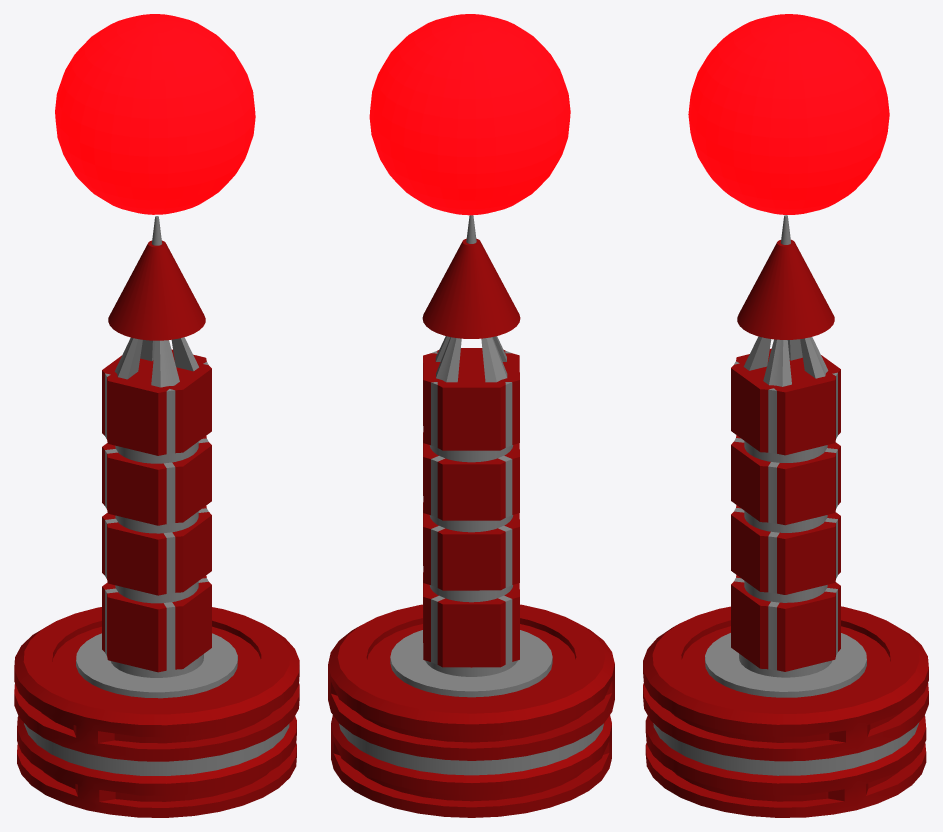
File: portMarker.glb
The picture shows the model from 3 angles, left to right: view 1: azimuth 30°, elevation 25°; view 2: azimuth 150°, elevation 25°; view 3: azimuth 270°, elevation 25°; orthographic projection.
Parts seen in each view (by area): view 1: Cylinder, SR light; view 2: Cylinder, SR light; view 3: Cylinder, SR light.
Part boxes in pixels (bbox=[...]): Cylinder: bbox=[14, 216, 299, 817]; SR light: bbox=[55, 14, 255, 214]; Cylinder: bbox=[328, 215, 614, 817]; SR light: bbox=[369, 14, 570, 215]; Cylinder: bbox=[643, 215, 928, 817]; SR light: bbox=[688, 14, 889, 214].
Size of the model in its own units: 2.66 by 7.54 by 2.66.
